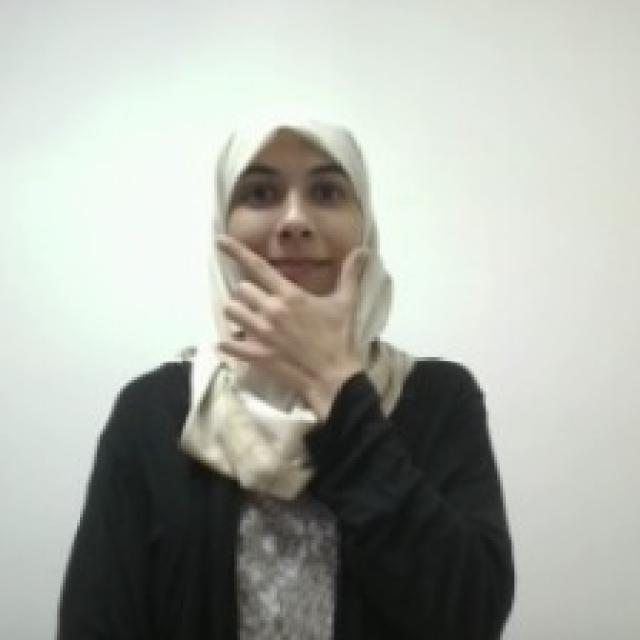smile: (207, 228, 376, 368)
